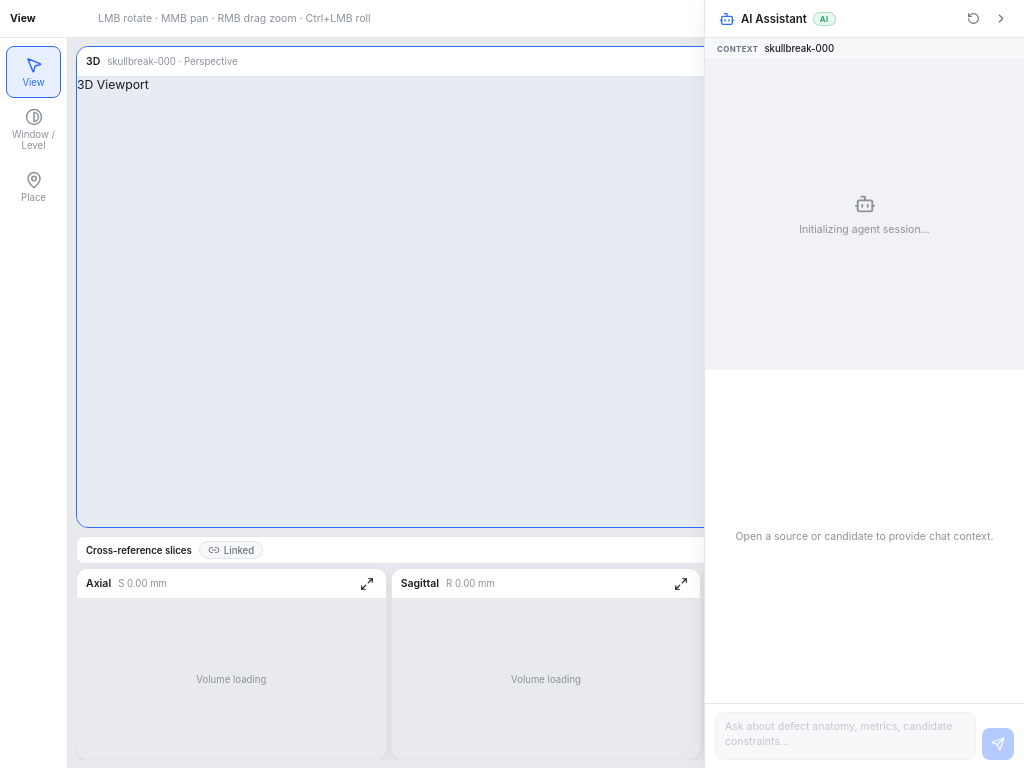
Test: CanvasWorkspace AI chat column integration › toggles AI chat column in CanvasWorkspace
Expected: the element named "AI Workspace Assistant" is shown, [705,0,1023,767]
Click collapse
Click the button named "Collapse AI assistant panel" at point(1001, 18), box [988,6,1014,32]
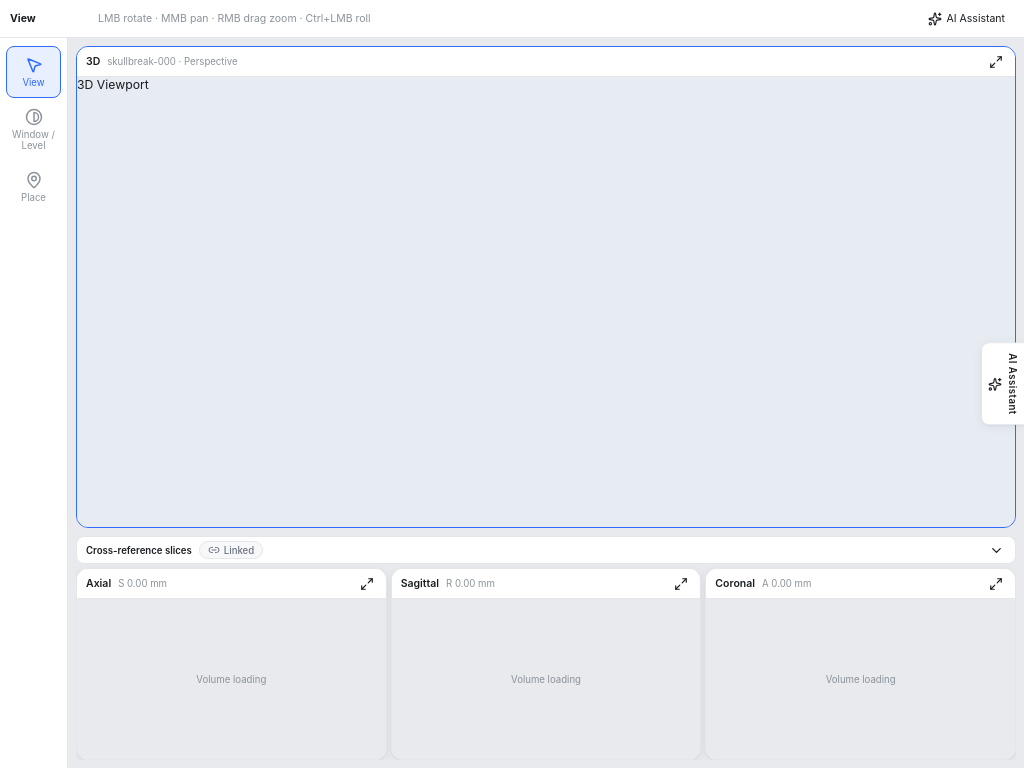
Click expand
Click the button with aria-label "Expand AI assistant" at point(966, 18), box [918,5,1014,32]
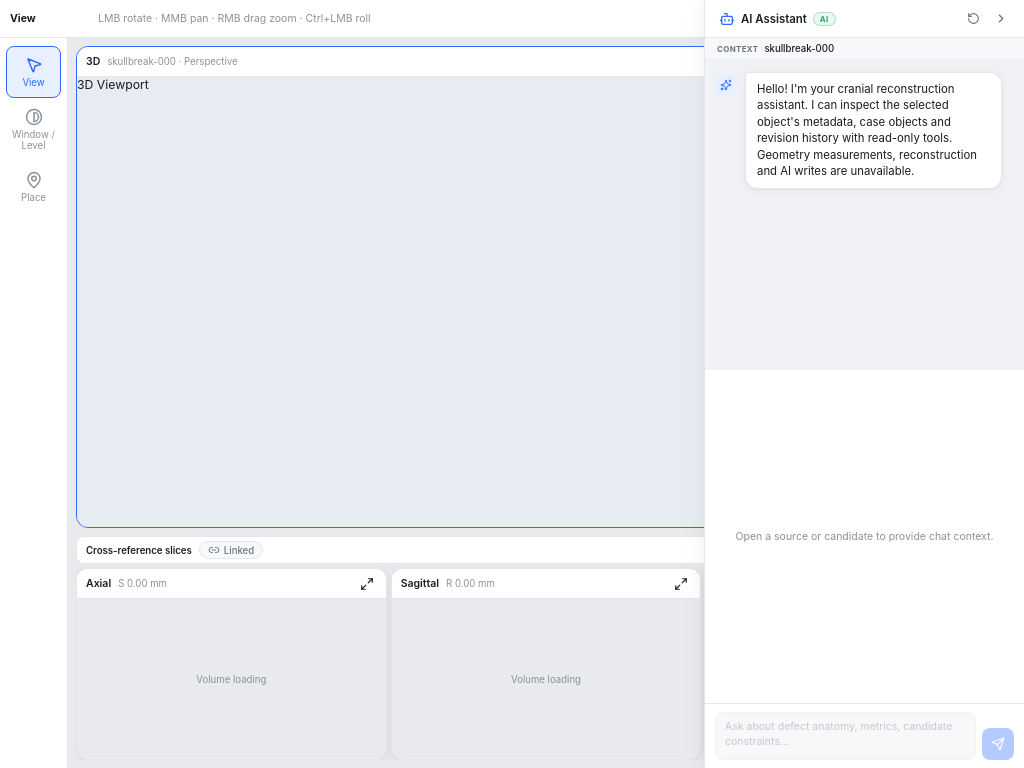
Expected: the element named "AI Workspace Assistant" is shown, [705,0,1023,767]
